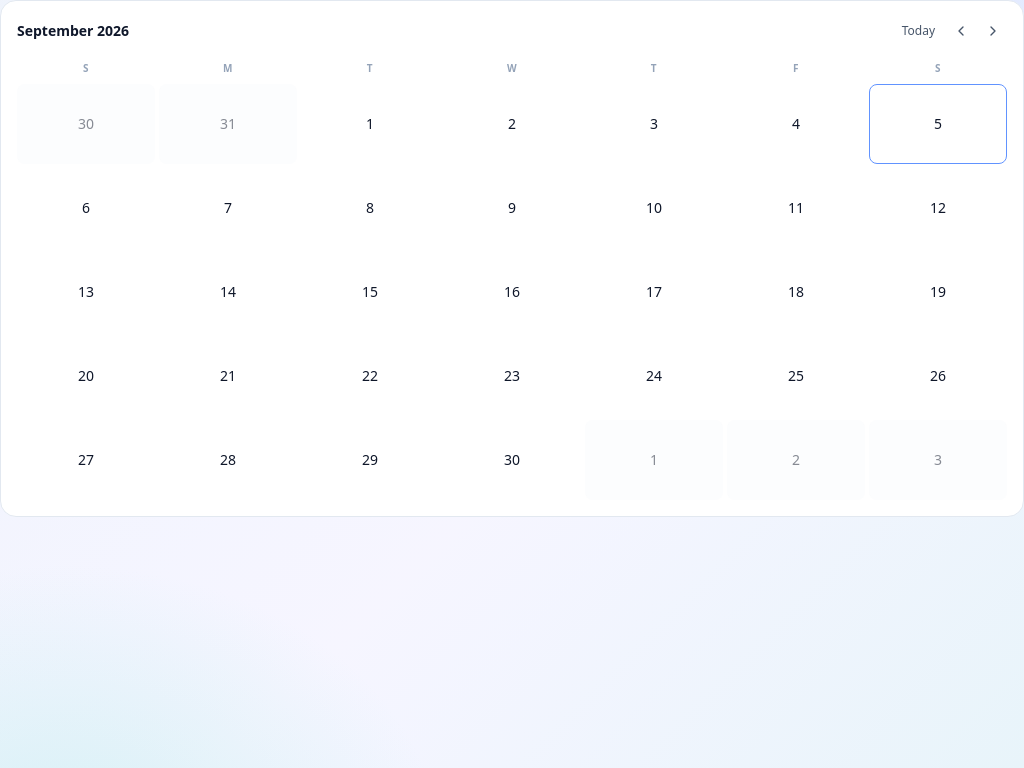
Scenario: DailyReportsCalendar › navigates months with prev/next and Today returns to the current month
The image size is (1024, 768).
expect the heading "September 2026" is shown: met, box [17, 21, 129, 41]
Click the button named "Next month" at (993, 31), box [979, 17, 1007, 45]
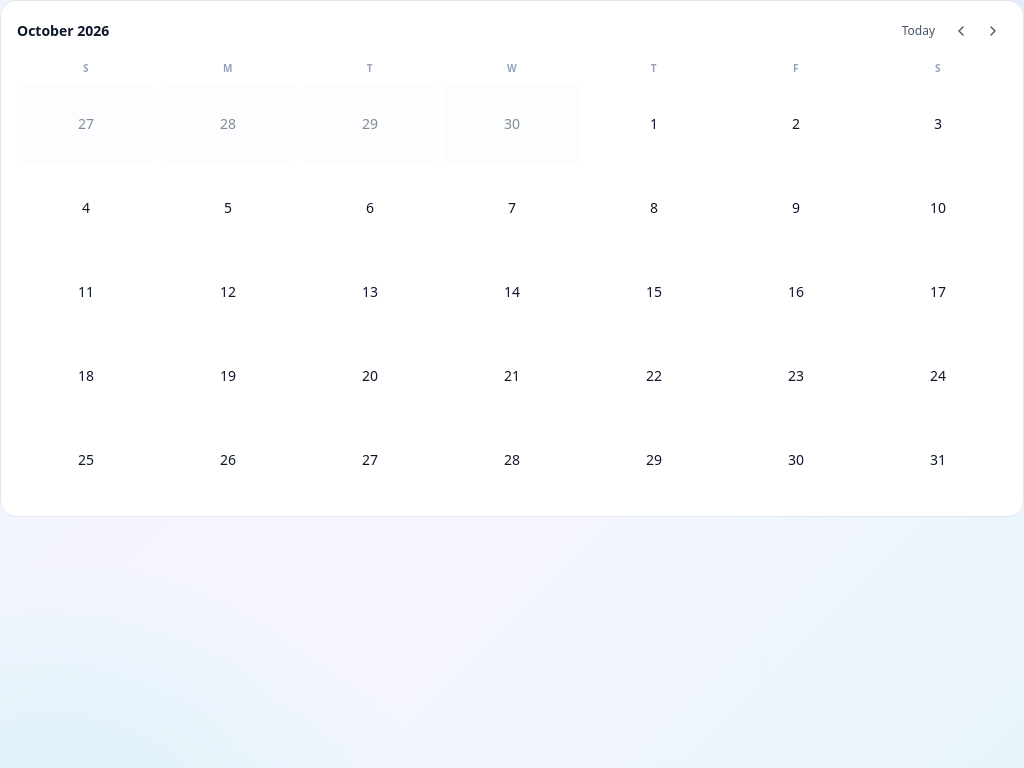
expect the heading "October 2026" is shown: met, box [17, 21, 109, 41]
Click the button named "Previous month" at (961, 31), box [947, 17, 975, 45]
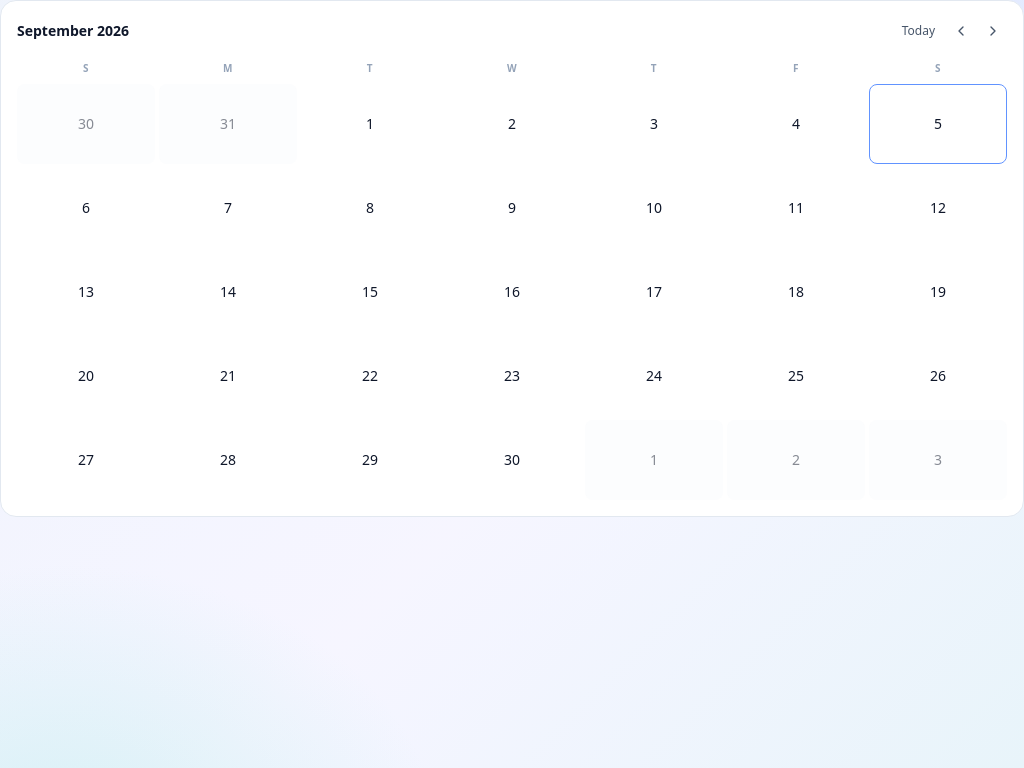
Click the button named "Previous month" at (961, 31), box [947, 17, 975, 45]
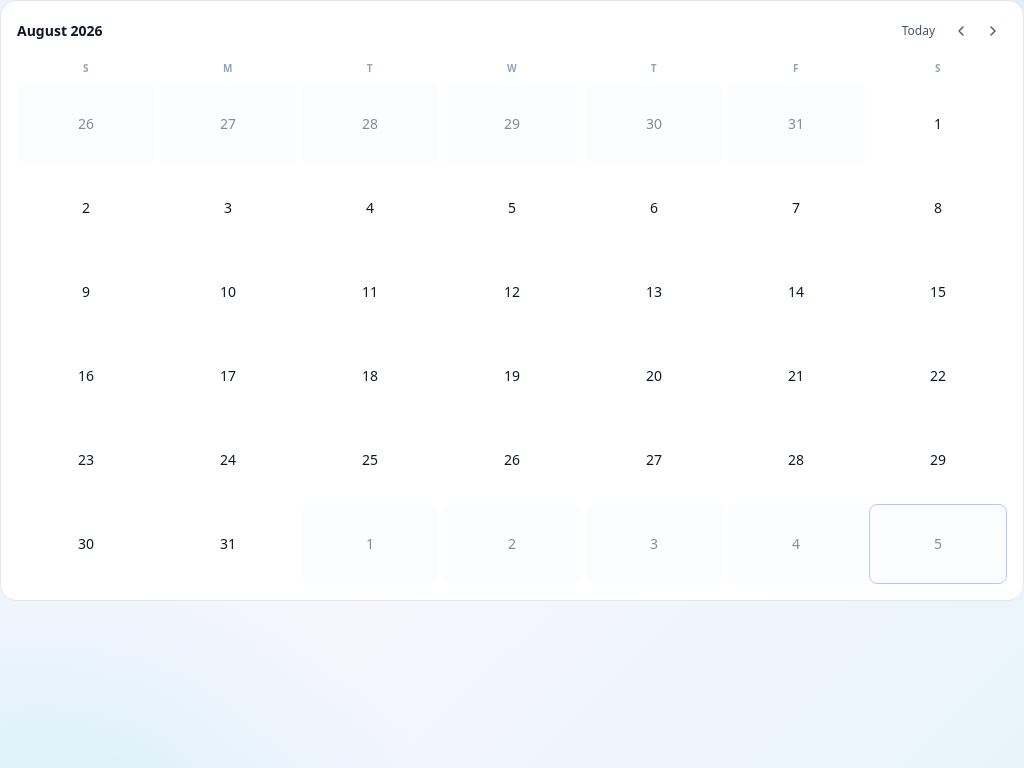
expect the heading "August 2026" is shown: met, box [17, 21, 103, 41]
Click the button "Today" at (918, 31), box [894, 19, 943, 43]
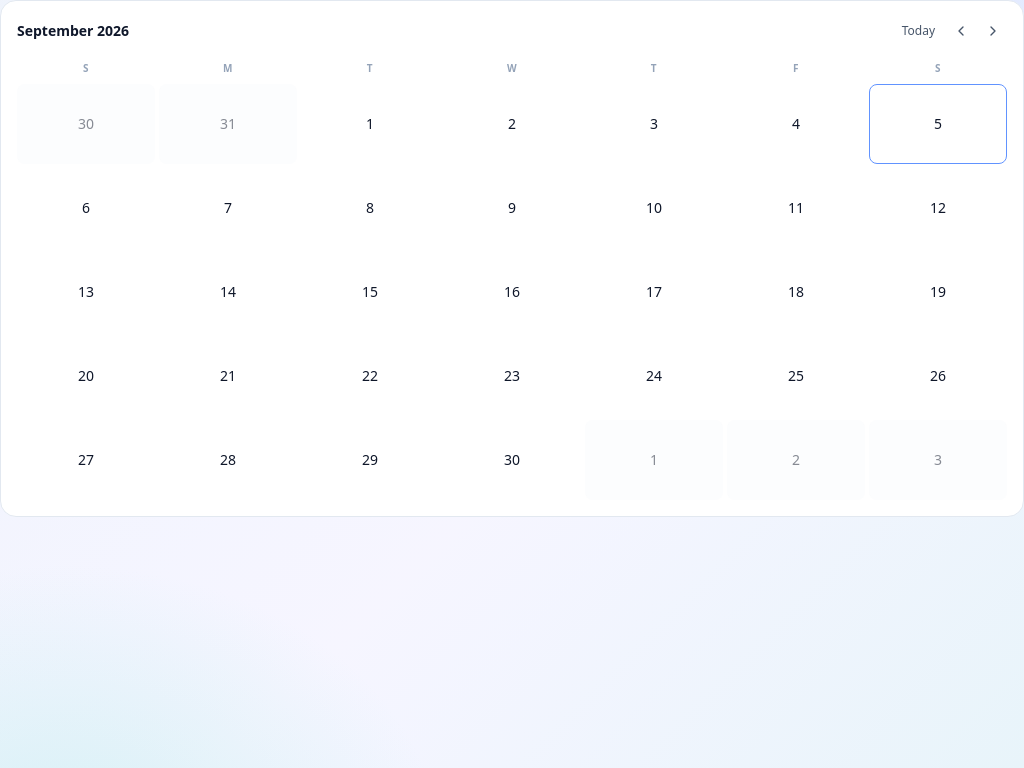
expect the heading "September 2026" is shown: met, box [17, 21, 129, 41]
